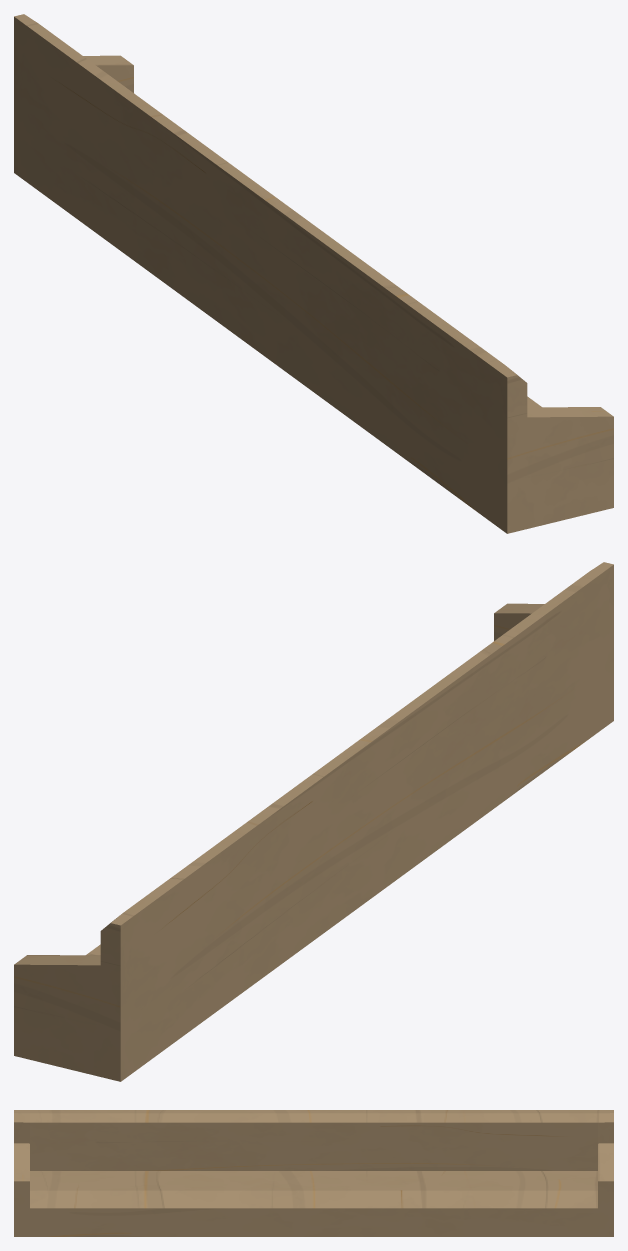
File: pew.glb
3 views of the same model, one above another, from view 1: azimuth 30°, elevation 25°; view 2: azimuth 150°, elevation 25°; view 3: azimuth 270°, elevation 25° (orthographic). The views are drawn at different scales.
Parts seen in each view (by area): view 1: Cube.003; view 2: Cube.003; view 3: Cube.003.
Boxes of the visible parts, <box> form: Cube.003: <box>14,14,613,533</box>; Cube.003: <box>14,562,613,1081</box>; Cube.003: <box>14,1110,613,1236</box>.
Bounding box in the file's own units: 1 × 1.4 × 8.
1 material, 1 textured.
